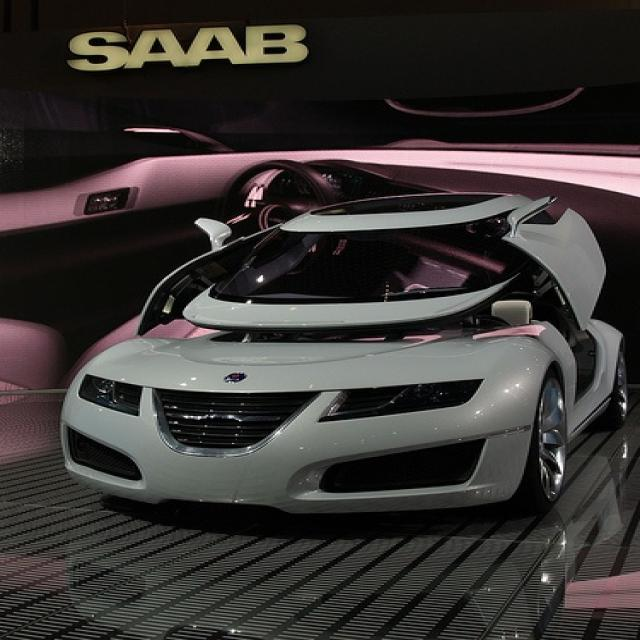car: (54, 188, 632, 531)
